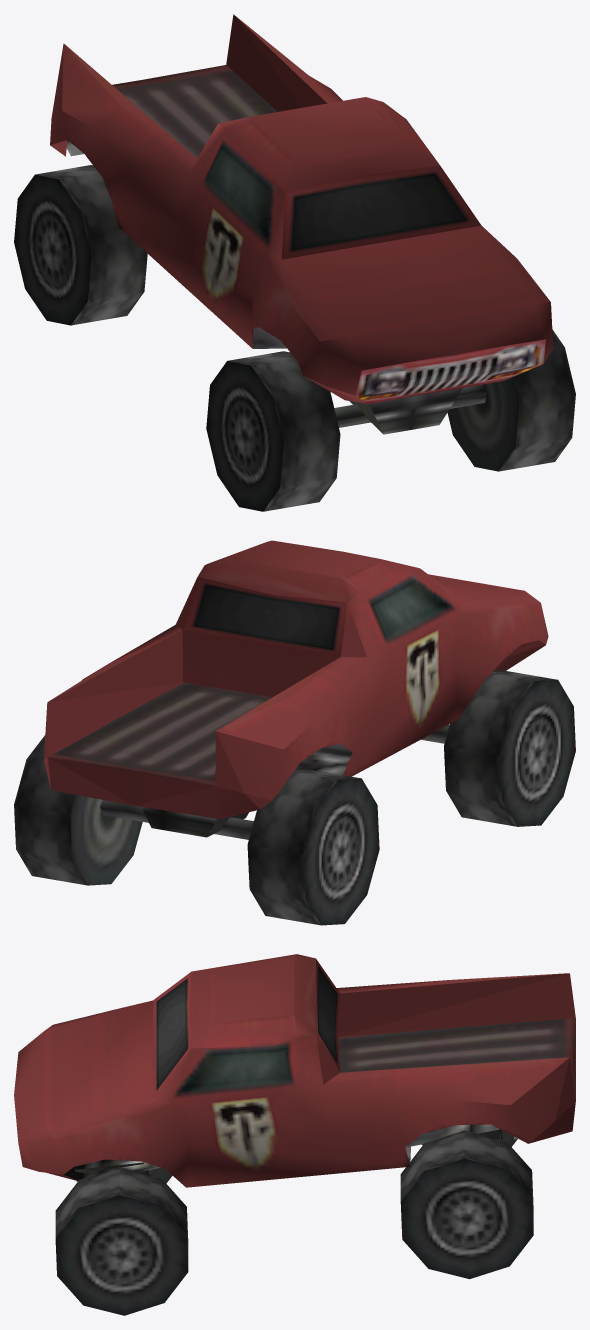
Rendered from iconcopy.ico.obj.
3 renders of one model, top to bottom at view 1: azimuth 30°, elevation 25°; view 2: azimuth 150°, elevation 25°; view 3: azimuth 270°, elevation 25°, orthographic. The views are drawn at different scales.
Size of the model in its own units: 2.47 by 2.45 by 4.47.
1 material, 1 textured.
